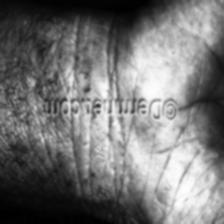Non-Cancerous Skin Condition: (56, 149, 64, 161), (84, 83, 90, 95), (66, 179, 71, 189), (90, 171, 96, 179)
